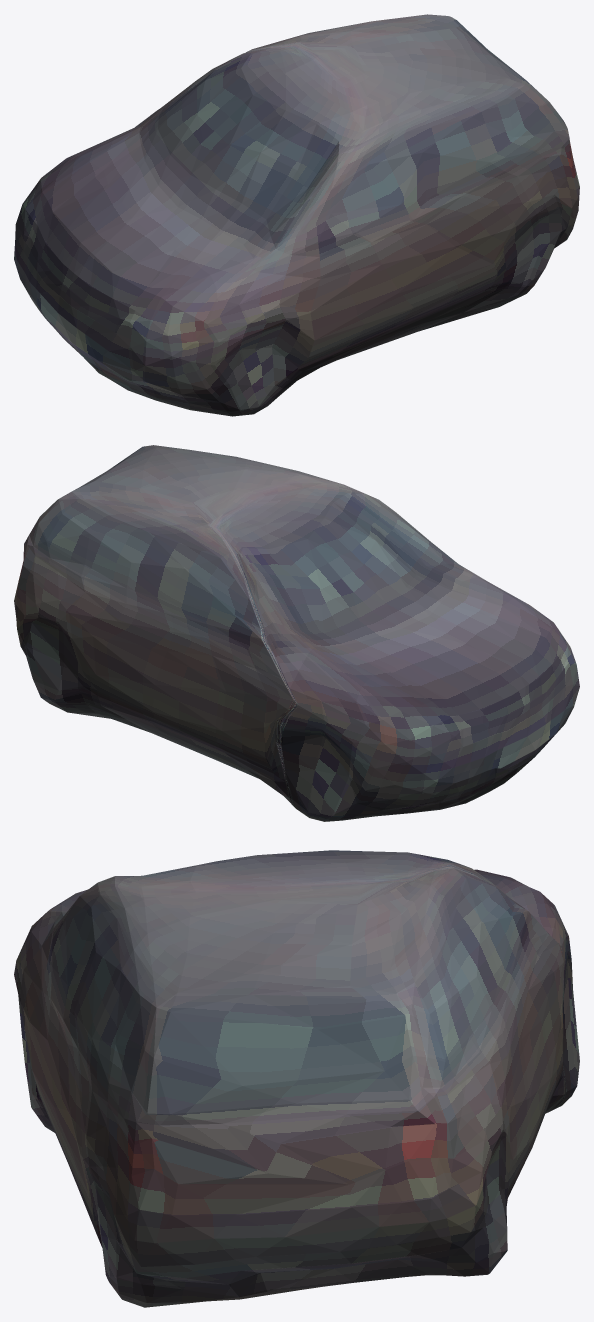
The model's file is video3_16.obj.
The picture shows the model from 3 angles, top to bottom: view 1: azimuth 30°, elevation 25°; view 2: azimuth 150°, elevation 25°; view 3: azimuth 270°, elevation 25°; orthographic projection. The views are drawn at different scales.
Bounding box in the file's own units: 1 × 0.4903 × 0.6762.
1 material, 1 textured.
